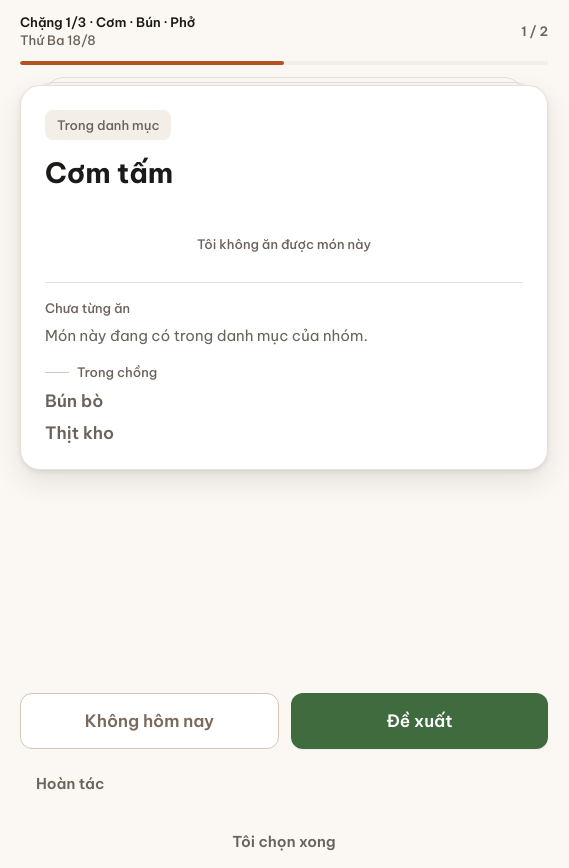
Test: S-09 Deck vuốt › E9-T5 — Giao diện duyệt theo chặng › M3-T1 — Hoàn tác sau khi quay lại chặng đọc đúng thẻ ngay trước cursor
The image size is (569, 868).
Click the button with aria-label "Đề xuất Cơm tấm".
click(420, 721)  # box [291, 693, 548, 749]
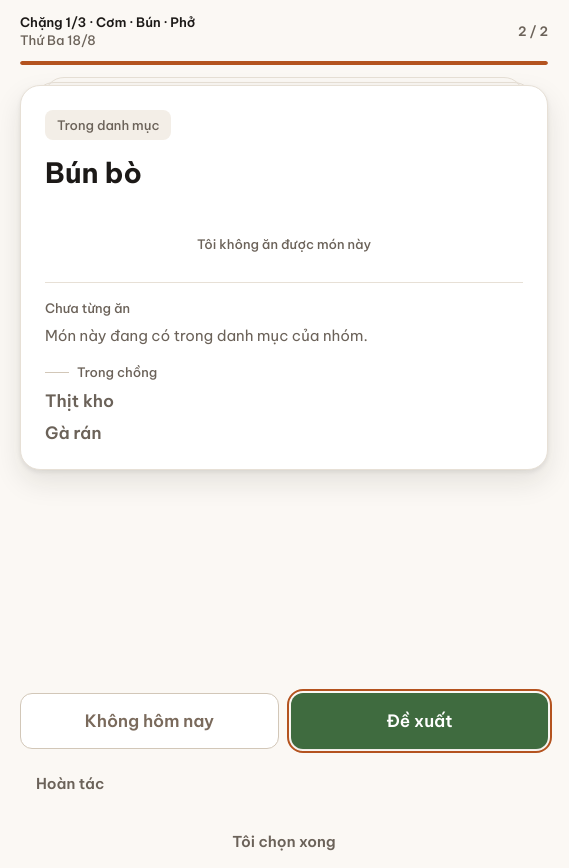
Click the button with aria-label "Đề xuất Bún bò".
click(420, 721)  # box [291, 693, 548, 749]
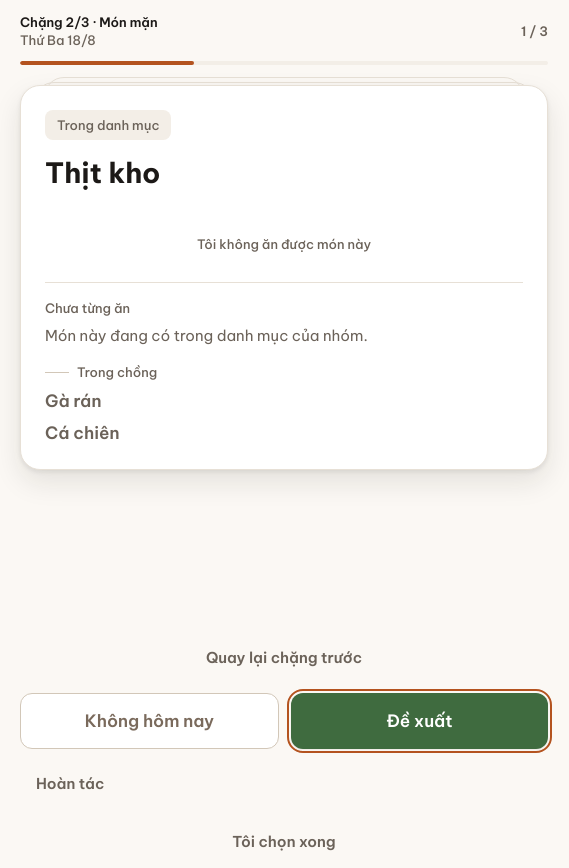
Click the button with aria-label "Đề xuất Thịt kho".
click(420, 721)  # box [291, 693, 548, 749]
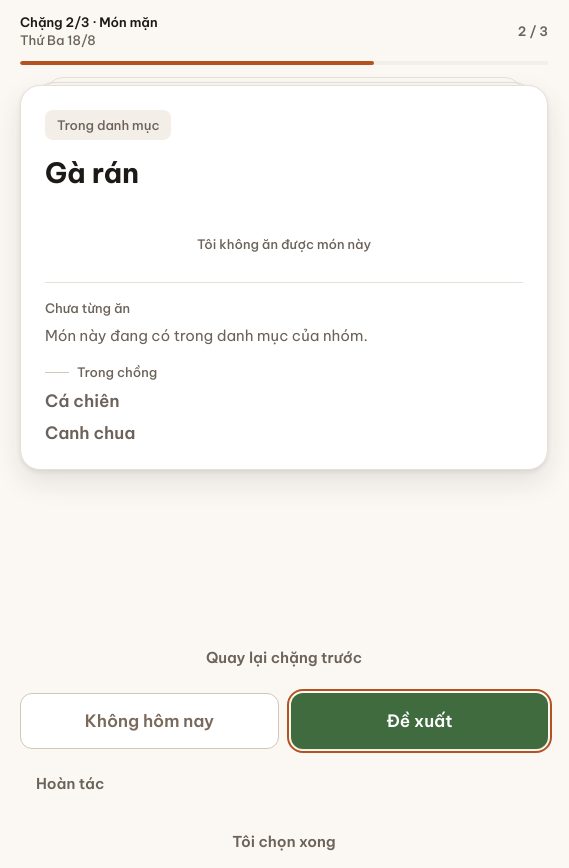
Click the button with aria-label "Đề xuất Gà rán".
click(420, 721)  # box [291, 693, 548, 749]
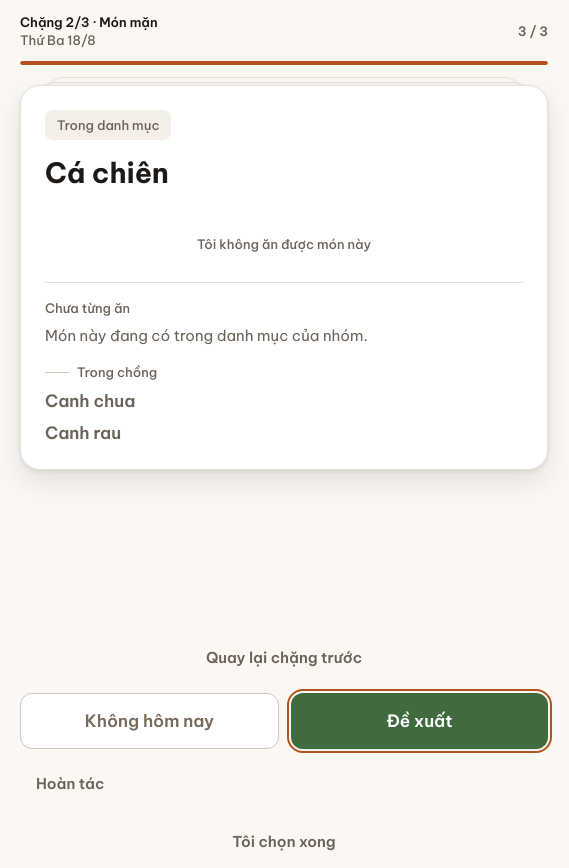
Click the button "Quay lại chặng trước".
click(284, 658)  # box [190, 635, 378, 681]
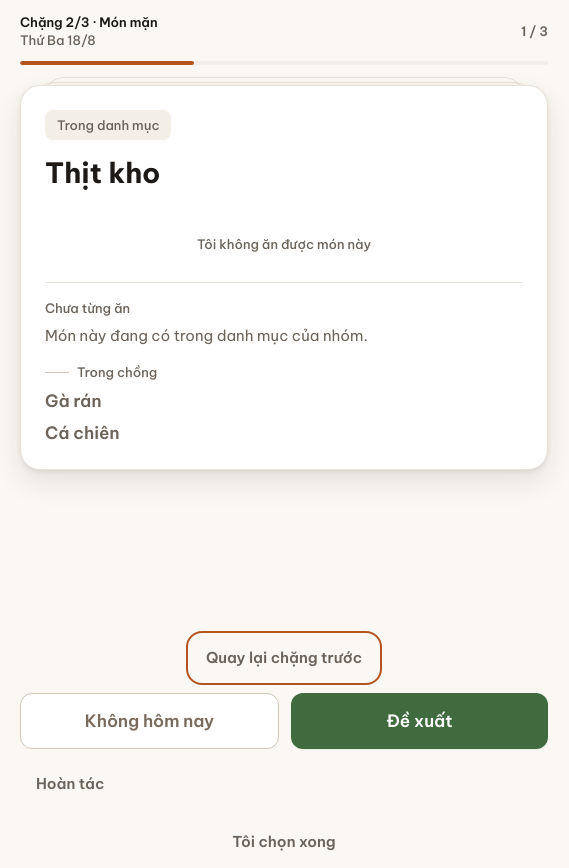
Expected: the heading "Thịt kho" is shown, [45, 155, 160, 190]
Click the button with aria-label "Hoàn tác lượt vuốt vừa rồi".
click(70, 784)  # box [20, 761, 120, 807]
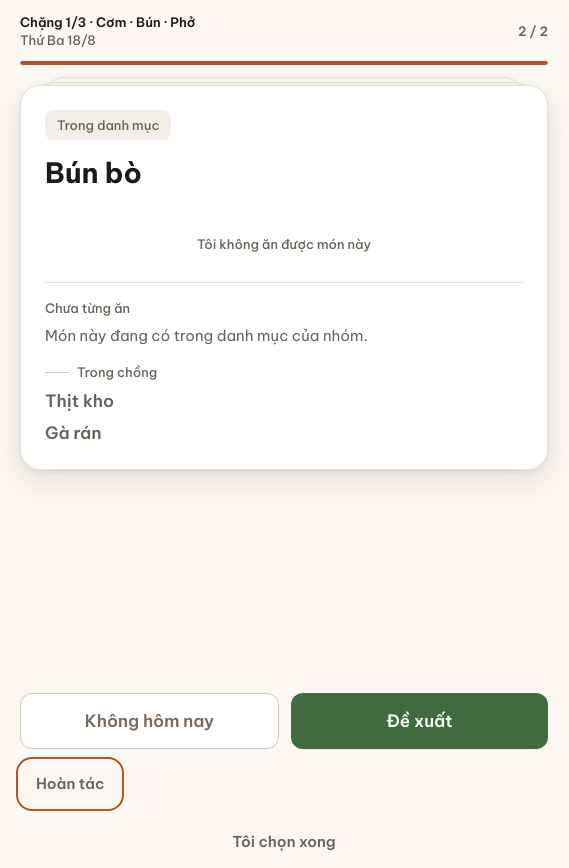
Expected: the heading "Bún bò" is shown, [45, 155, 142, 190]
